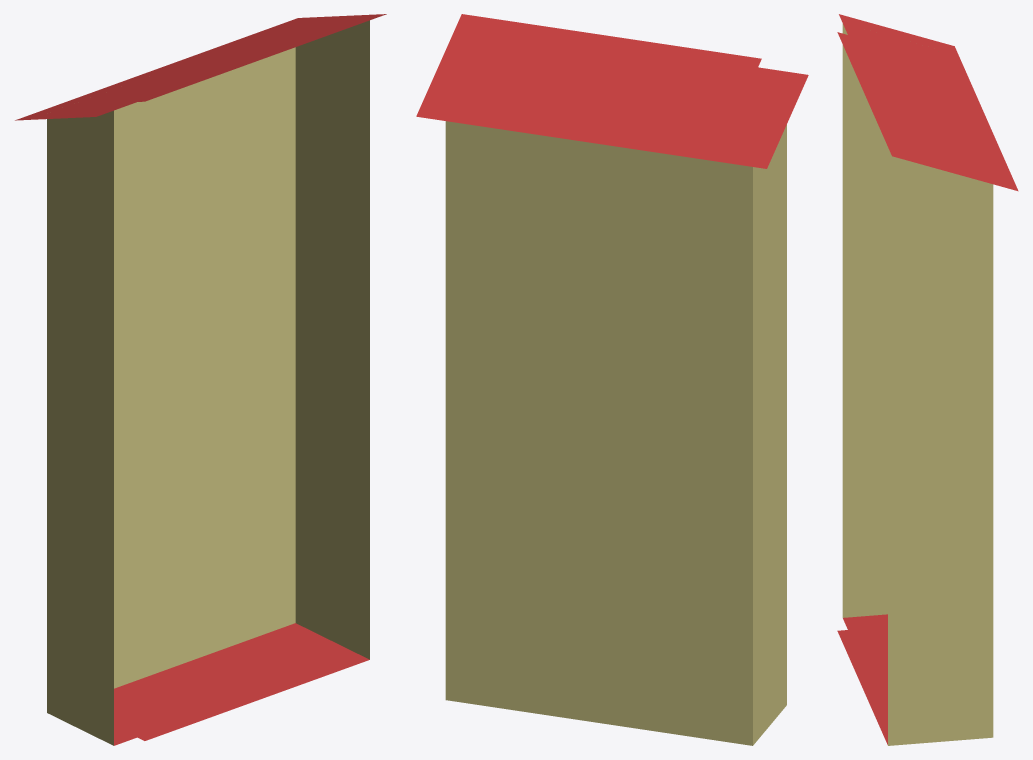
3 renders of one model, left to right at view 1: azimuth 30°, elevation 25°; view 2: azimuth 150°, elevation 25°; view 3: azimuth 270°, elevation 25°, orthographic. The views are drawn at different scales.
Size of the model in its own units: 8.48 by 4.19 by 15.26.
